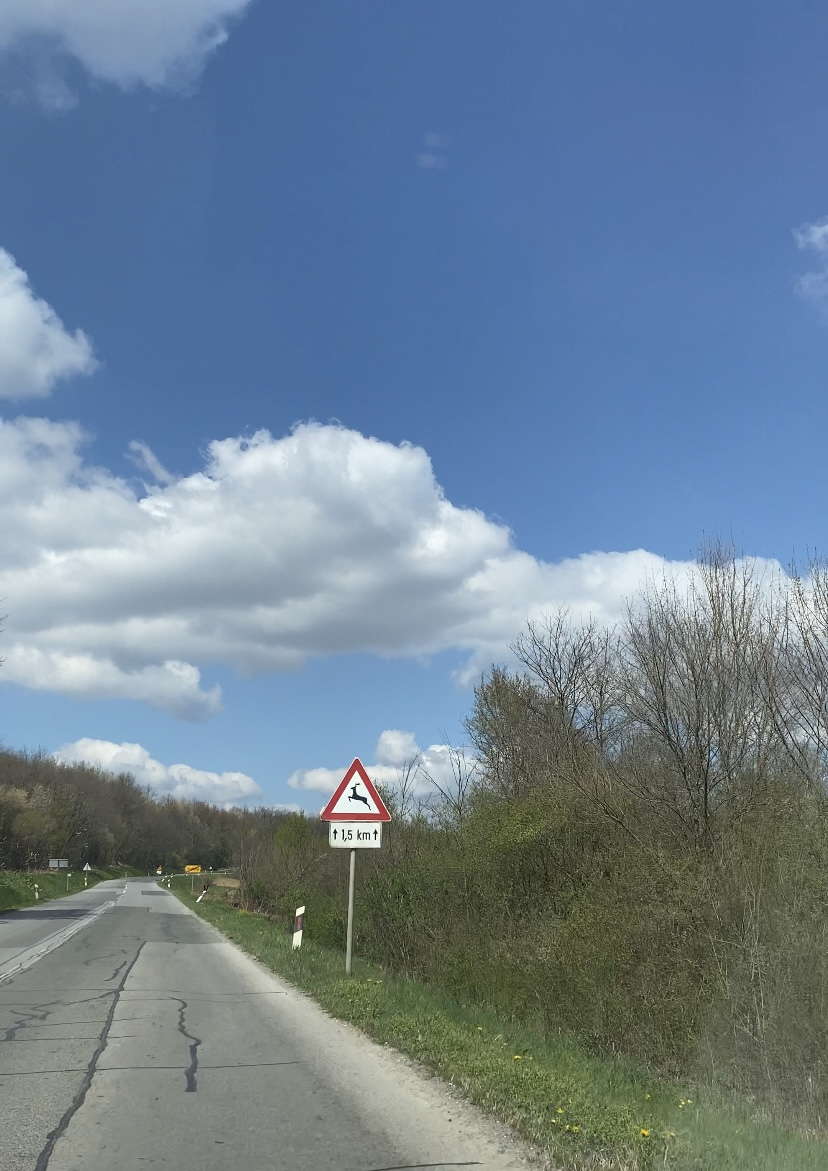Divljač na cesti: (320, 757, 391, 822)
